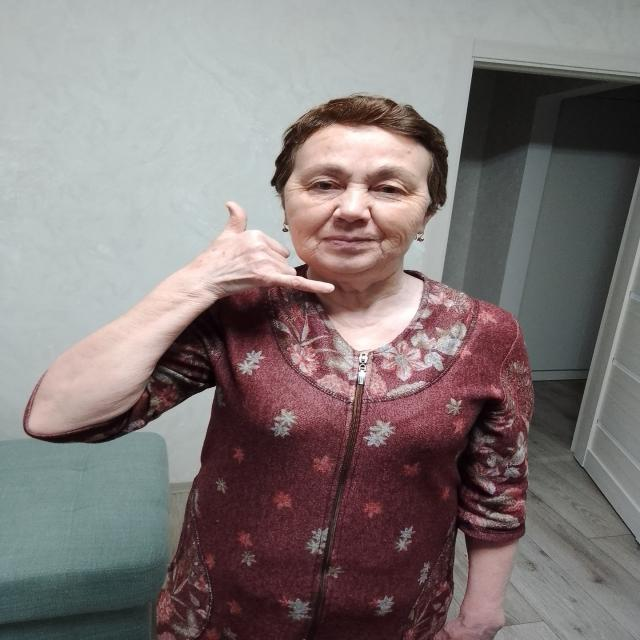call: (196, 200, 338, 300)
